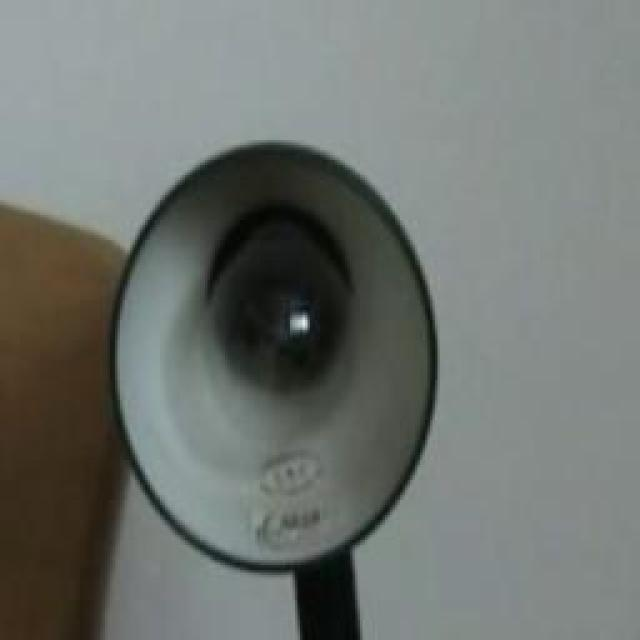other: (120, 156, 443, 570)
